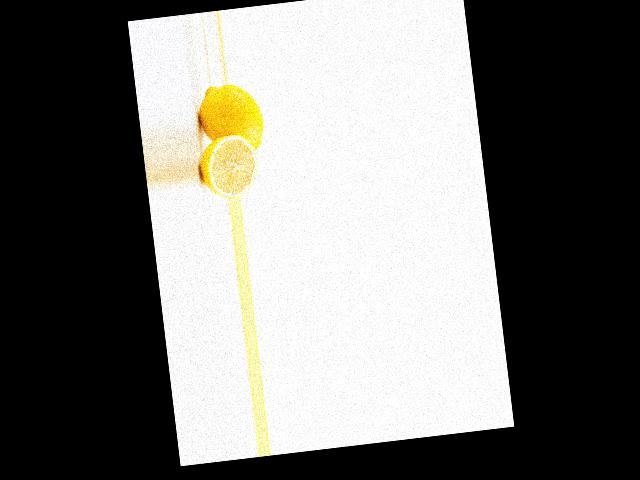lemon: (193, 81, 267, 160)
